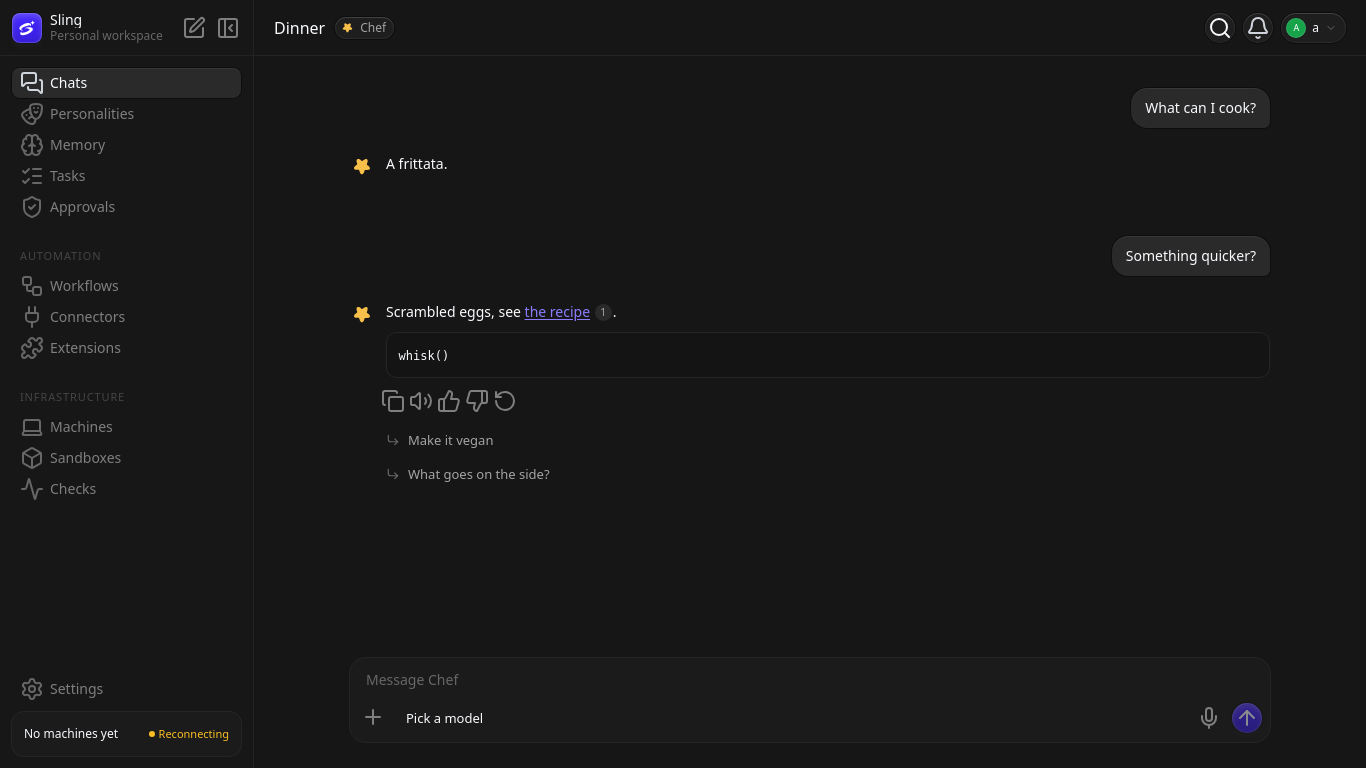
Test: read aloud › reads the reply as plain text, and a second press stops it
Click the button named "Read aloud": click(421, 401) [408,388,434,414]
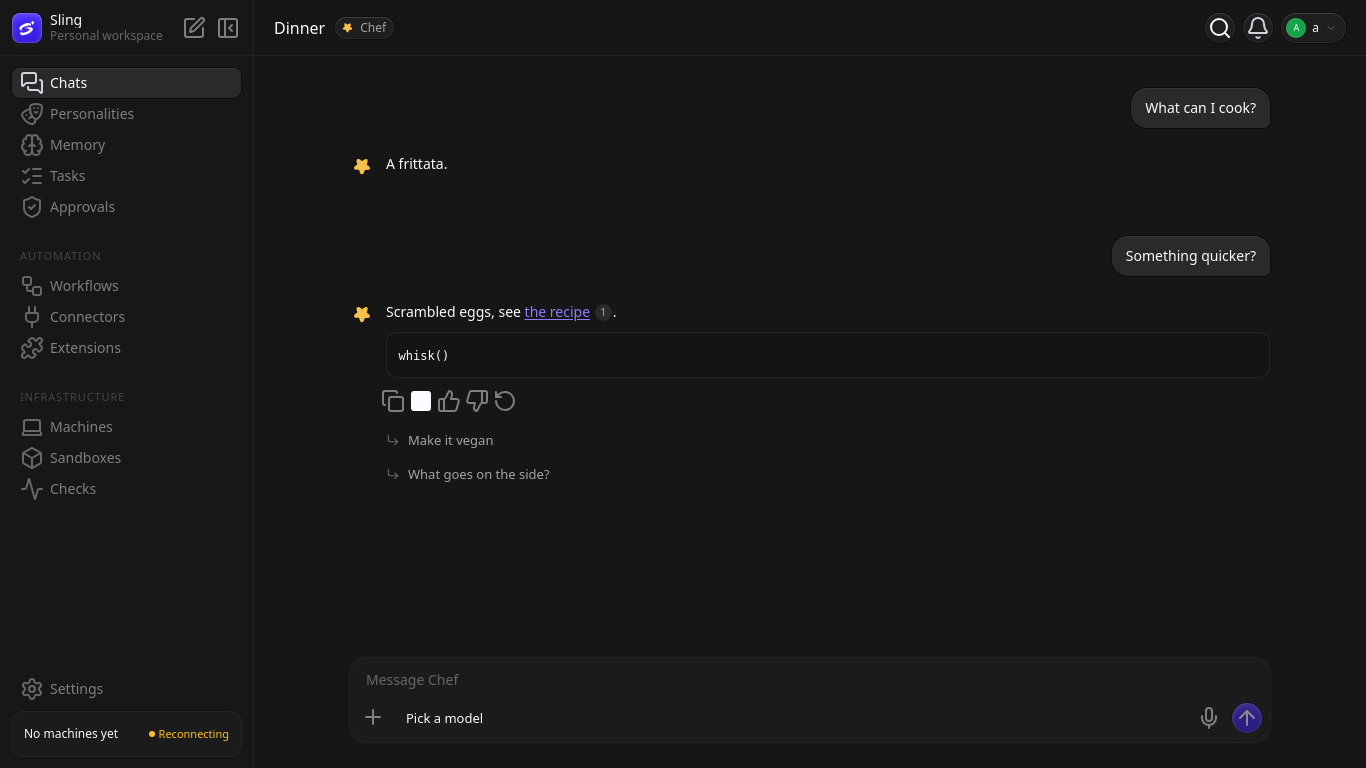
Click the button named "Stop reading": click(421, 401) [408,388,434,414]
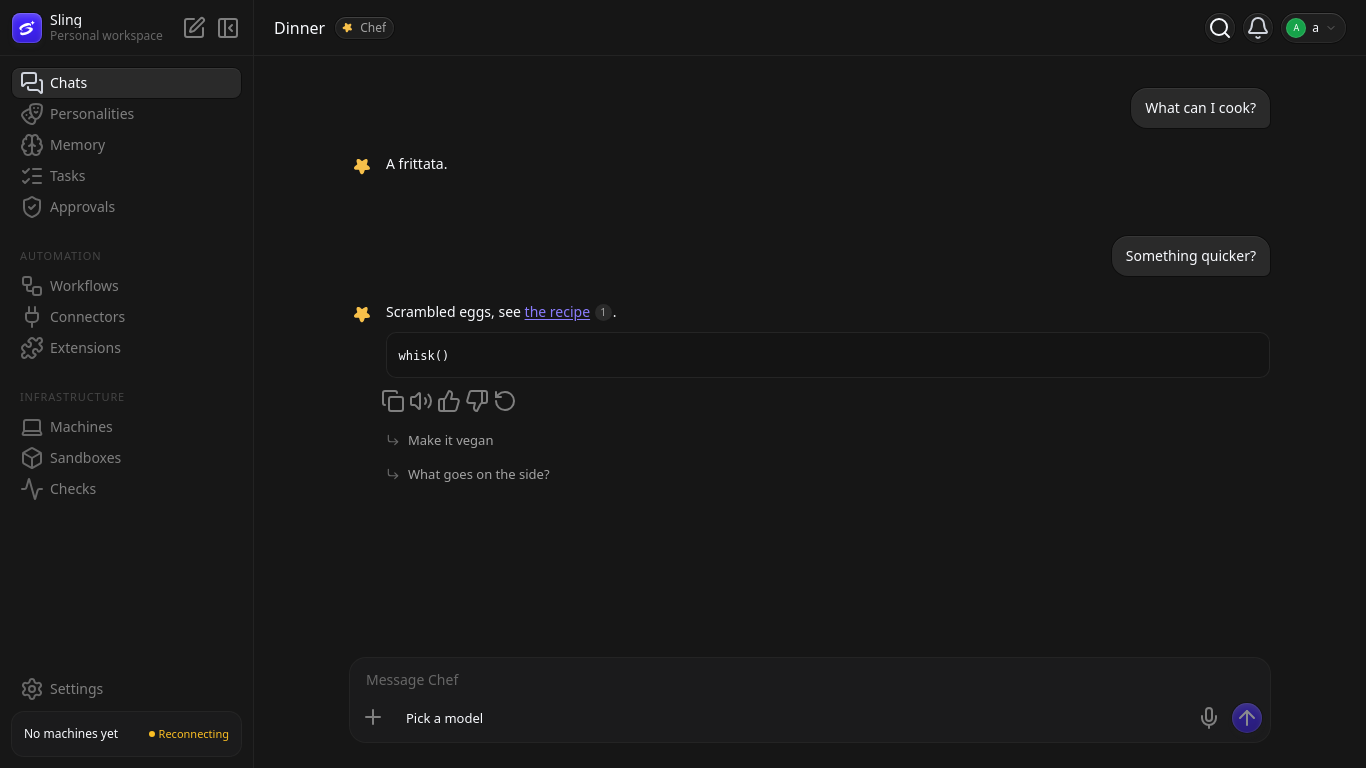
Expected: the button named "Read aloud" is shown, [408,388,434,414]
